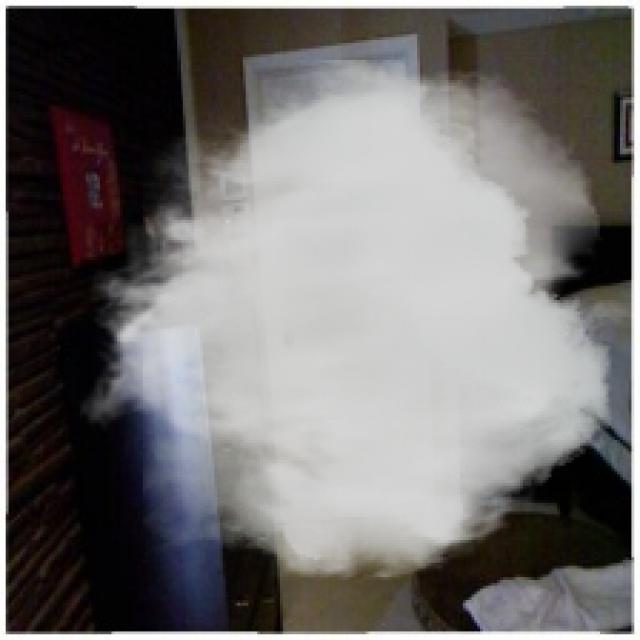Smoke: (77, 60, 612, 586)
